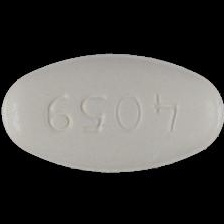0093-4059: (0, 0, 224, 224)
